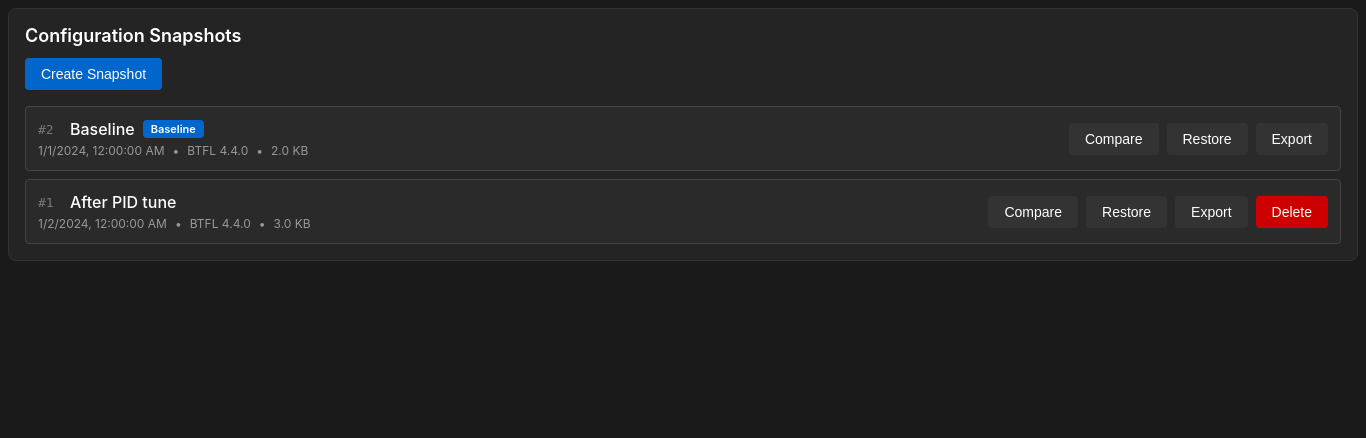
Test: SnapshotManager › opens create dialog when create button clicked
Click the button "Create Snapshot".
click(94, 74)  # box [25,58,162,90]
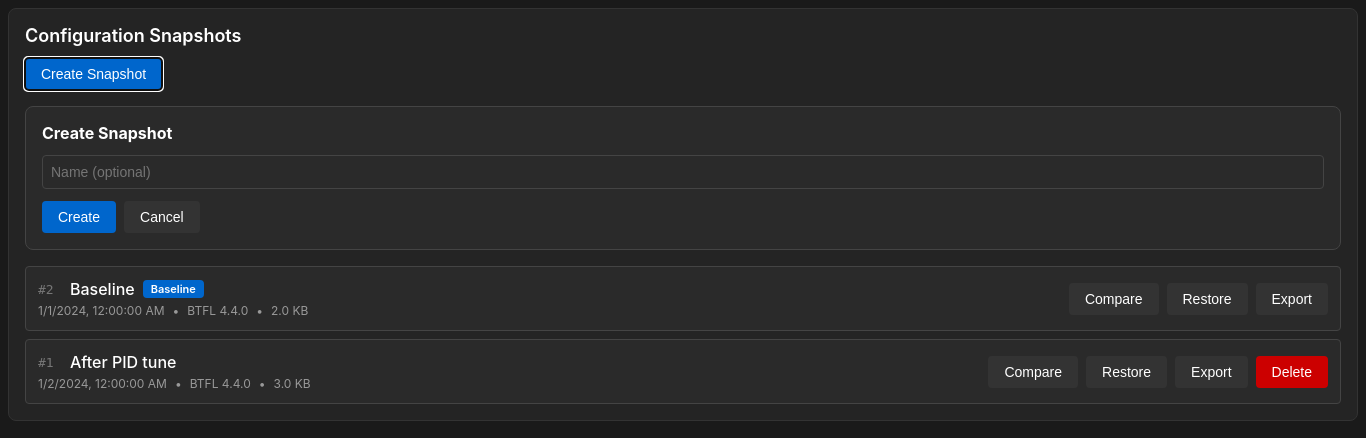
Expected: the heading "Create Snapshot" is shown, [42,123,172,143]
Expected: the field with placeholder "Name (optional)" is shown, [42,155,1324,189]
